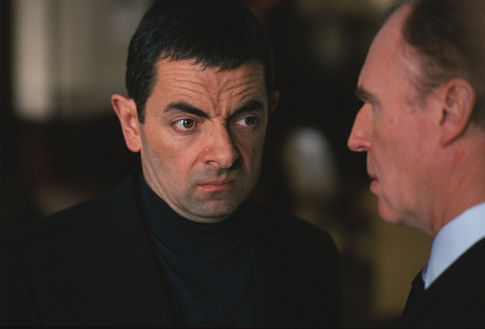37: (120, 25, 286, 246)
53: (335, 6, 468, 249)
Coat: (1, 168, 362, 329)
Male: (120, 25, 286, 246), (335, 6, 468, 249)
